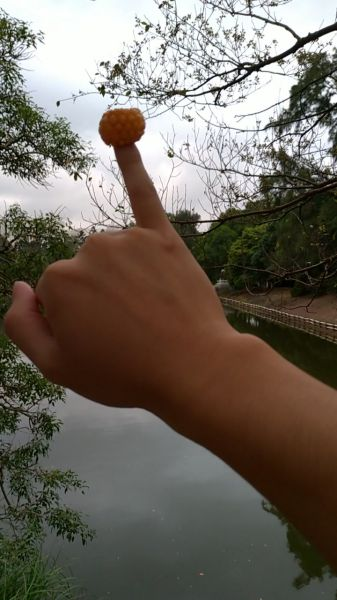eggs: (97, 109, 145, 145)
